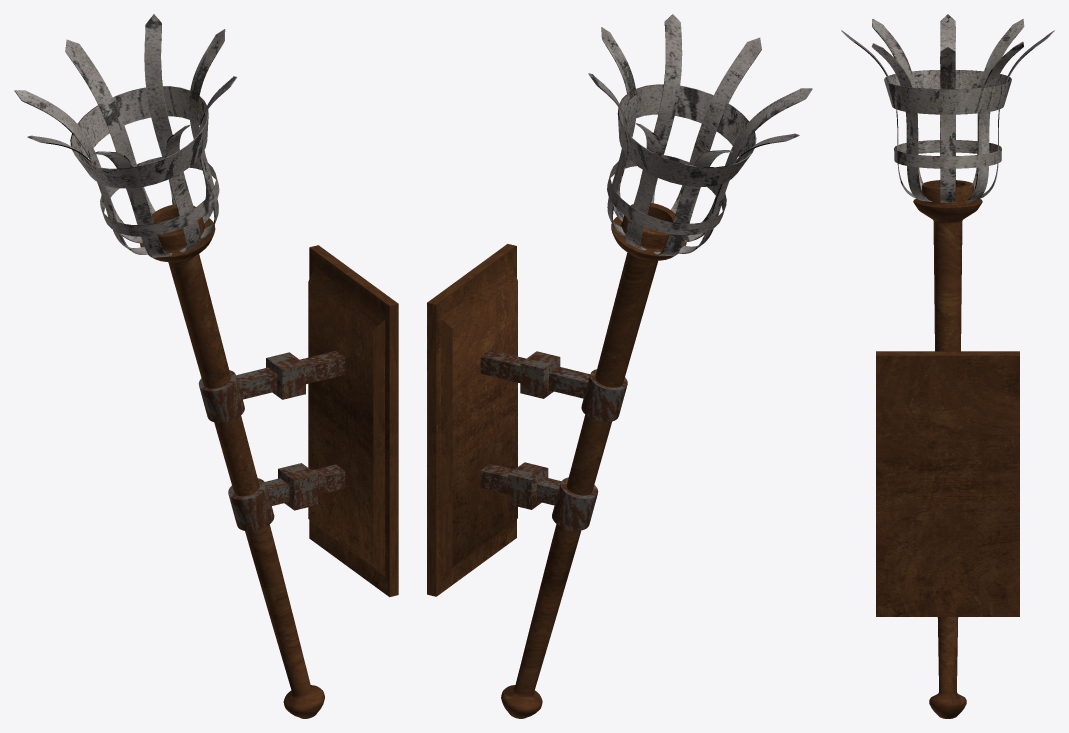
The model's file is torch.glb.
3 views of the same model, side by side, from view 1: azimuth 30°, elevation 25°; view 2: azimuth 150°, elevation 25°; view 3: azimuth 270°, elevation 25° (orthographic). The views are drawn at different scales.
Visible parts, largest first — view 1: Bake; view 2: Bake; view 3: Bake.
Boxes of the visible parts, <box> form: Bake: <box>14,14,398,718</box>; Bake: <box>427,14,812,718</box>; Bake: <box>841,14,1054,718</box>.
Size of the model in its own units: 0.2807 by 0.5728 by 0.1746.
1 material, 1 textured.
